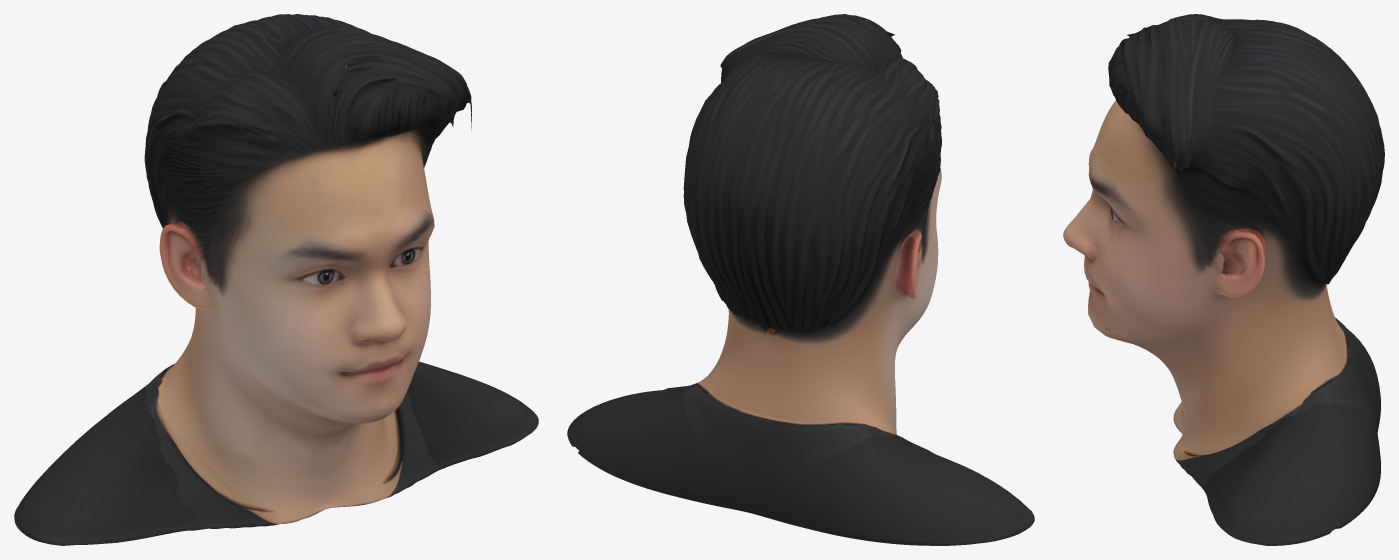
Rendered from central-hub.glb.
3 views of the same model, side by side, from view 1: azimuth 30°, elevation 25°; view 2: azimuth 150°, elevation 25°; view 3: azimuth 270°, elevation 25° (orthographic). The views are drawn at different scales.
Parts seen in each view (by area): view 1: model; view 2: model; view 3: model.
Part boxes in pixels (bbox=[...]): model: bbox=[14, 14, 538, 545]; model: bbox=[567, 14, 1034, 545]; model: bbox=[1063, 14, 1384, 545].
Bounding box in the file's own units: 1.9 × 1.68 × 1.17.
1 material, 1 textured.
